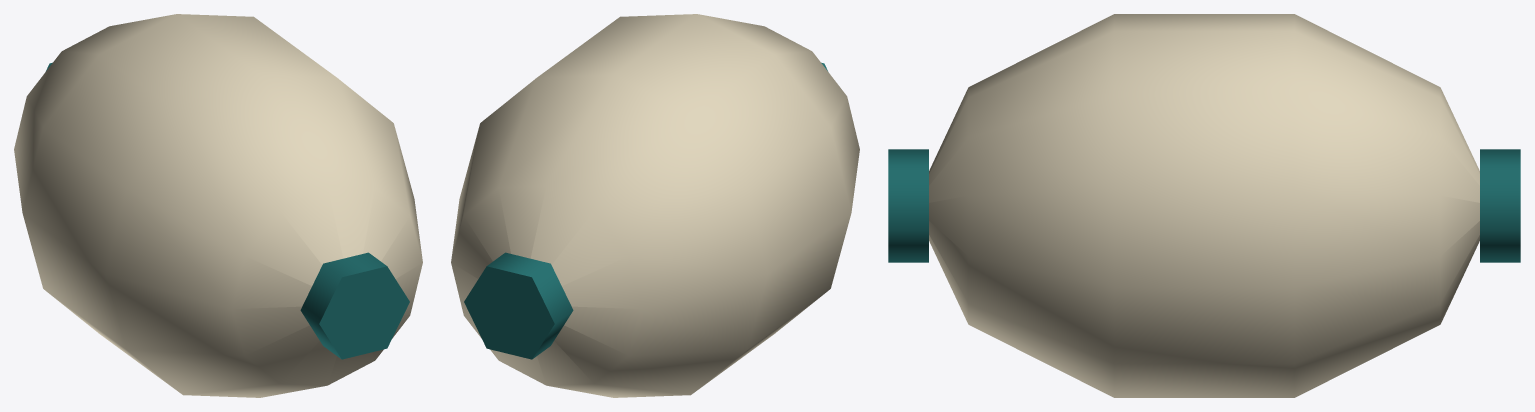
Rendered from k12_field.obj.
3 renders of one model, left to right at view 1: azimuth 30°, elevation 25°; view 2: azimuth 150°, elevation 25°; view 3: azimuth 270°, elevation 25°, orthographic. The views are drawn at different scales.
Parts seen in each view (by area): view 1: k12_field; view 2: k12_field; view 3: k12_field.
Boxes of the visible parts, x1,y1,x2,y2 form: k12_field: (14,14,422,397); k12_field: (451,14,859,397); k12_field: (888,14,1520,397).
Size of the model in its own units: 1.51 by 1.51 by 2.48.
